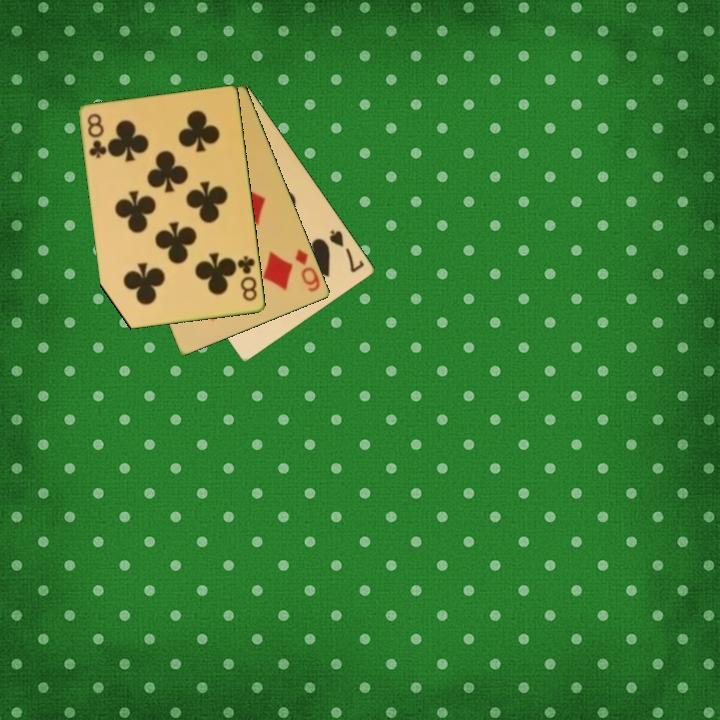6d: (292, 246, 323, 295)
7s: (326, 226, 368, 276)
8c: (234, 252, 260, 304), (84, 110, 109, 161)
